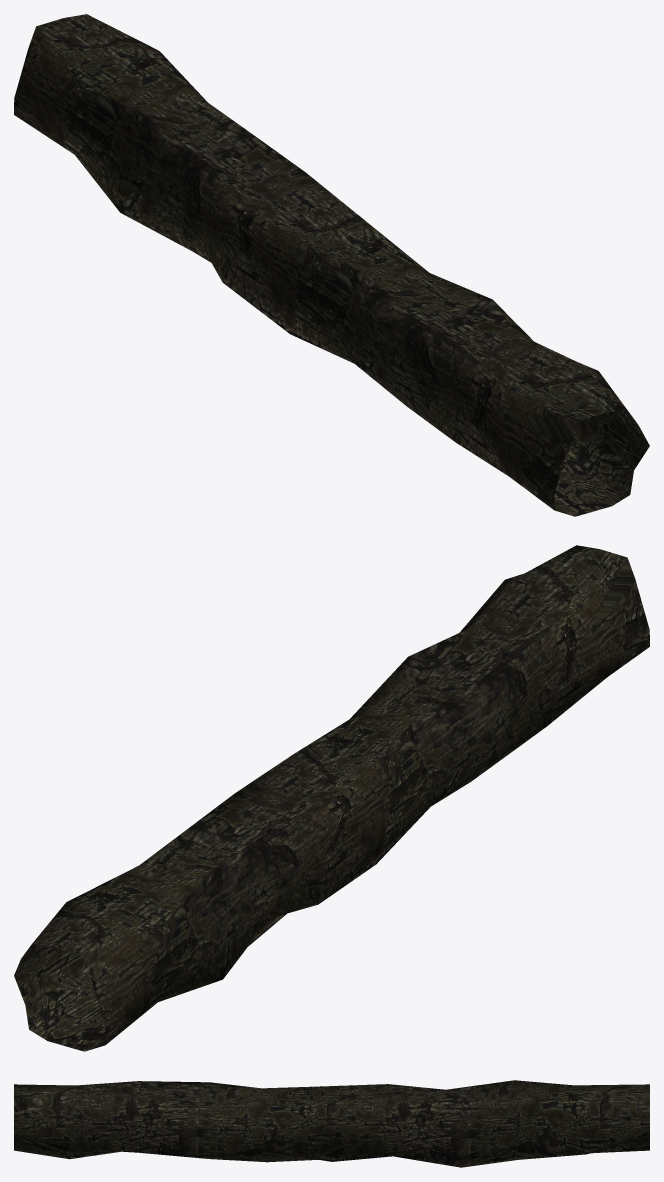
Rendered from welder.dae.
3 renders of one model, top to bottom at view 1: azimuth 30°, elevation 25°; view 2: azimuth 150°, elevation 25°; view 3: azimuth 270°, elevation 25°, orthographic. The views are drawn at different scales.
Parts seen in each view (by area): view 1: pCube104; view 2: pCube104; view 3: pCube104.
Boxes of the visible parts, x1=… form: pCube104: x1=14, y1=14, x2=649, y2=516; pCube104: x1=14, y1=545, x2=649, y2=1051; pCube104: x1=14, y1=1080, x2=649, y2=1167.
Bounding box in the file's own units: 0.7186 × 0.7597 × 6.
